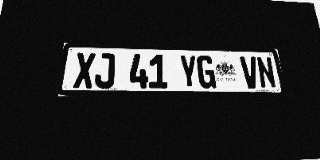1: (149, 54, 167, 88)
4: (129, 54, 148, 88)
G: (196, 55, 216, 88)
J: (94, 53, 115, 88)
N: (256, 57, 277, 88)
V: (240, 56, 260, 88)
X: (73, 53, 96, 88)
Y: (179, 55, 198, 88)
